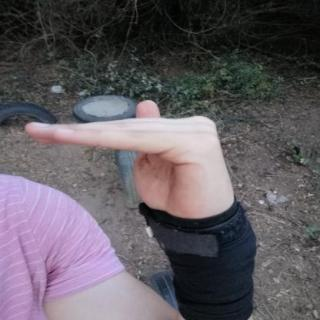KHAA: (14, 91, 242, 227)
